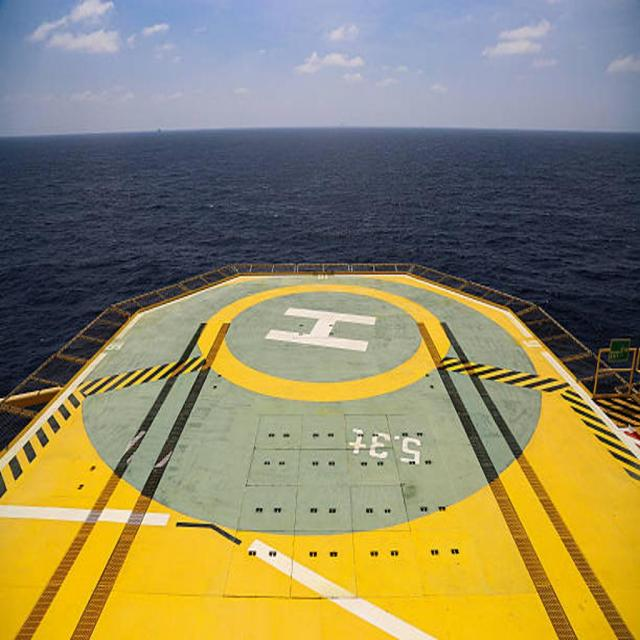helipad: (196, 282, 451, 401)
